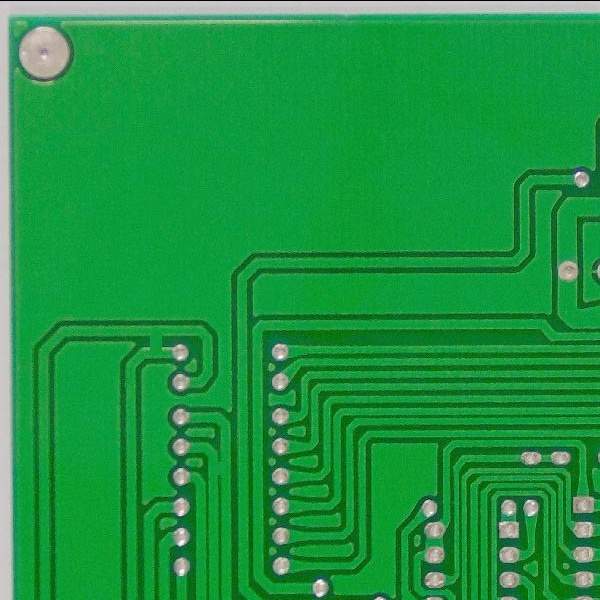short: (136, 322, 171, 362), (205, 454, 231, 485)
